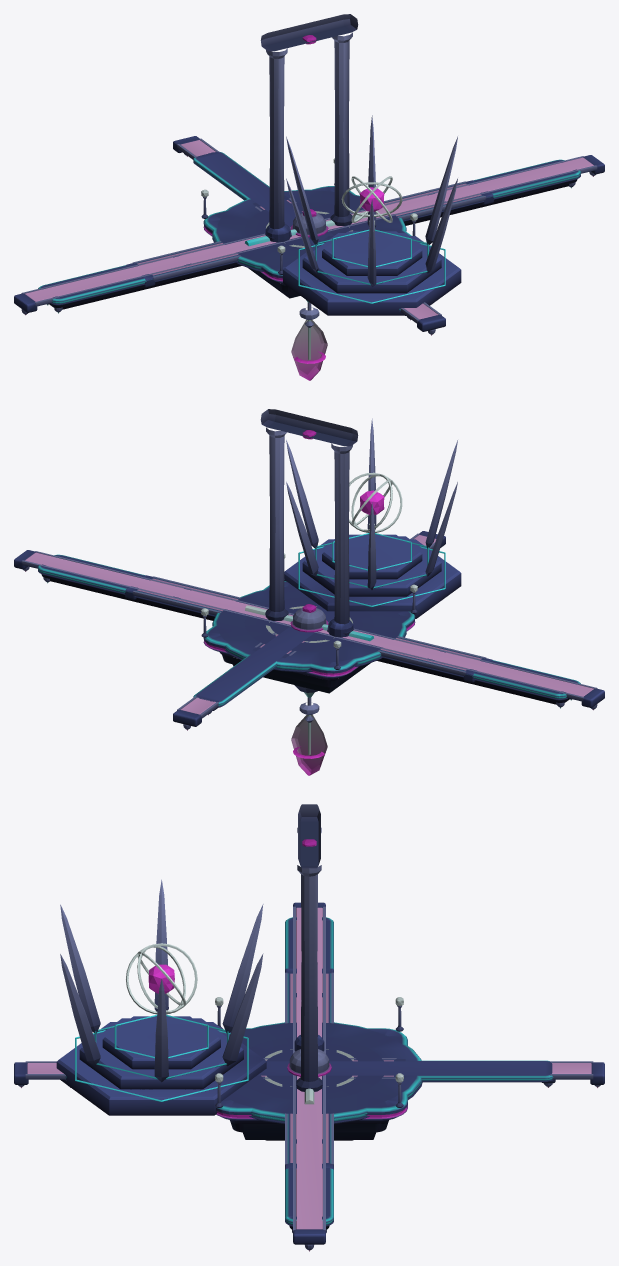
File: core-1-CjwSH_Nb.glb
3 views of the same model, one above another, from view 1: azimuth 30°, elevation 25°; view 2: azimuth 150°, elevation 25°; view 3: azimuth 270°, elevation 25° (orthographic). The views are drawn at different scales.
Visible parts, largest first — view 1: summit_#0, pressFrame_3.5x6x2x7#0, beam_48x1.5x2#0, block_44x2x3#1, disc_14x1.5#1, block_2.5x2x30_grate#1, beam_29x1.5x3#1, disc_10x1.5#0, blade_3x12x1#0, beam_2x1.5x36#1, pad_12x2x12#0, barHub_11x1.2#0; view 2: summit_#0, pressFrame_3.5x6x2x7#0, beam_48x1.5x2#0, block_44x2x3#1, disc_14x1.5#1, pad_12x2x12#0, block_2.5x2x30_grate#1, beam_29x1.5x3#1, disc_10x1.5#0, blade_3x12x1#0, barHub_11x1.2#0, beam_2x1.5x36#1; view 3: summit_#0, beam_48x1.5x2#0, disc_14x1.5#1, pressFrame_3.5x6x2x7#0, block_2.5x2x30_grate#1, pad_12x2x12#0, disc_10x1.5#0, block_44x2x3#1, beam_2x1.5x36#1, beam_29x1.5x3#1, barHub_11x1.2#0.
Part boxes in pixels (left/top/right/bottom): summit_#0: left=283, top=115, right=461, bottom=315; pressFrame_3.5x6x2x7#0: left=260, top=14, right=358, bottom=240; beam_48x1.5x2#0: left=14, top=155, right=604, bottom=315; block_44x2x3#1: left=38, top=159, right=581, bottom=313; disc_14x1.5#1: left=212, top=189, right=406, bottom=302; block_2.5x2x30_grate#1: left=193, top=151, right=400, bottom=312; beam_29x1.5x3#1: left=126, top=180, right=493, bottom=287; disc_10x1.5#0: left=245, top=202, right=369, bottom=256; blade_3x12x1#0: left=291, top=302, right=327, bottom=380; beam_2x1.5x36#1: left=173, top=136, right=445, bottom=335; pad_12x2x12#0: left=201, top=158, right=417, bottom=298; barHub_11x1.2#0: left=245, top=209, right=367, bottom=246; summit_#0: left=284, top=418, right=461, bottom=618; pressFrame_3.5x6x2x7#0: left=260, top=409, right=358, bottom=635; beam_48x1.5x2#0: left=14, top=550, right=604, bottom=710; block_44x2x3#1: left=37, top=554, right=580, bottom=708; disc_14x1.5#1: left=212, top=586, right=406, bottom=697; pad_12x2x12#0: left=201, top=553, right=417, bottom=693; block_2.5x2x30_grate#1: left=193, top=605, right=334, bottom=707; beam_29x1.5x3#1: left=125, top=575, right=492, bottom=682; disc_10x1.5#0: left=244, top=597, right=373, bottom=651; blade_3x12x1#0: left=291, top=697, right=327, bottom=775; barHub_11x1.2#0: left=245, top=604, right=373, bottom=641; beam_2x1.5x36#1: left=173, top=531, right=445, bottom=730; summit_#0: left=56, top=879, right=266, bottom=1115; beam_48x1.5x2#0: left=293, top=902, right=325, bottom=1251; disc_14x1.5#1: left=226, top=1022, right=422, bottom=1124; pressFrame_3.5x6x2x7#0: left=296, top=804, right=322, bottom=1091; block_2.5x2x30_grate#1: left=65, top=1060, right=553, bottom=1082; pad_12x2x12#0: left=215, top=997, right=407, bottom=1140; disc_10x1.5#0: left=244, top=1036, right=383, bottom=1099; block_44x2x3#1: left=285, top=917, right=333, bottom=1232; beam_2x1.5x36#1: left=14, top=1061, right=604, bottom=1087; beam_29x1.5x3#1: left=285, top=968, right=333, bottom=1169; barHub_11x1.2#0: left=287, top=1049, right=331, bottom=1104.
Bounding box in the file's own units: 48 × 28.1 × 36.
